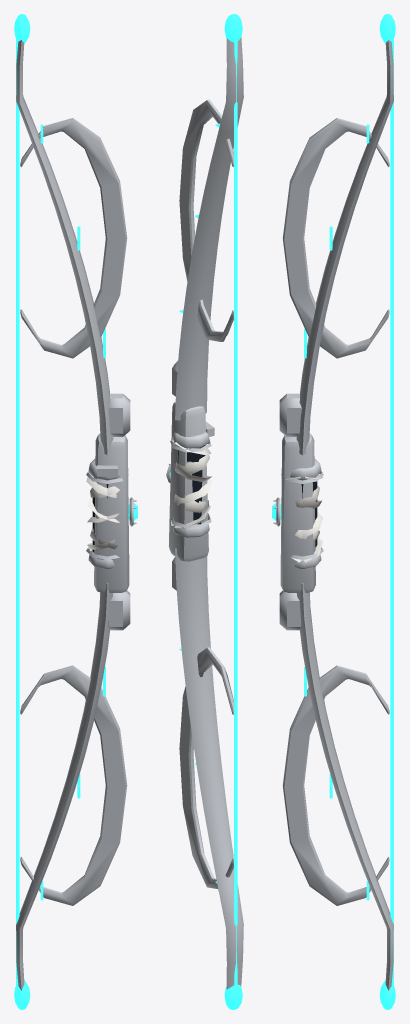
File: starfall_bow.glb
3 views of the same model, side by side, from view 1: azimuth 90°, elevation 25°; view 2: azimuth 210°, elevation 25°; view 3: azimuth 270°, elevation 25° (orthographic).
Visible parts, largest first — view 1: starfall_bow; view 2: starfall_bow; view 3: starfall_bow.
Part boxes in pixels (<box>): starfall_bow: <box>14,14,137,1009</box>; starfall_bow: <box>166,14,243,1009</box>; starfall_bow: <box>272,14,395,1009</box>.
Size of the model in its own units: 0.0603 by 1.55 by 0.1742.
